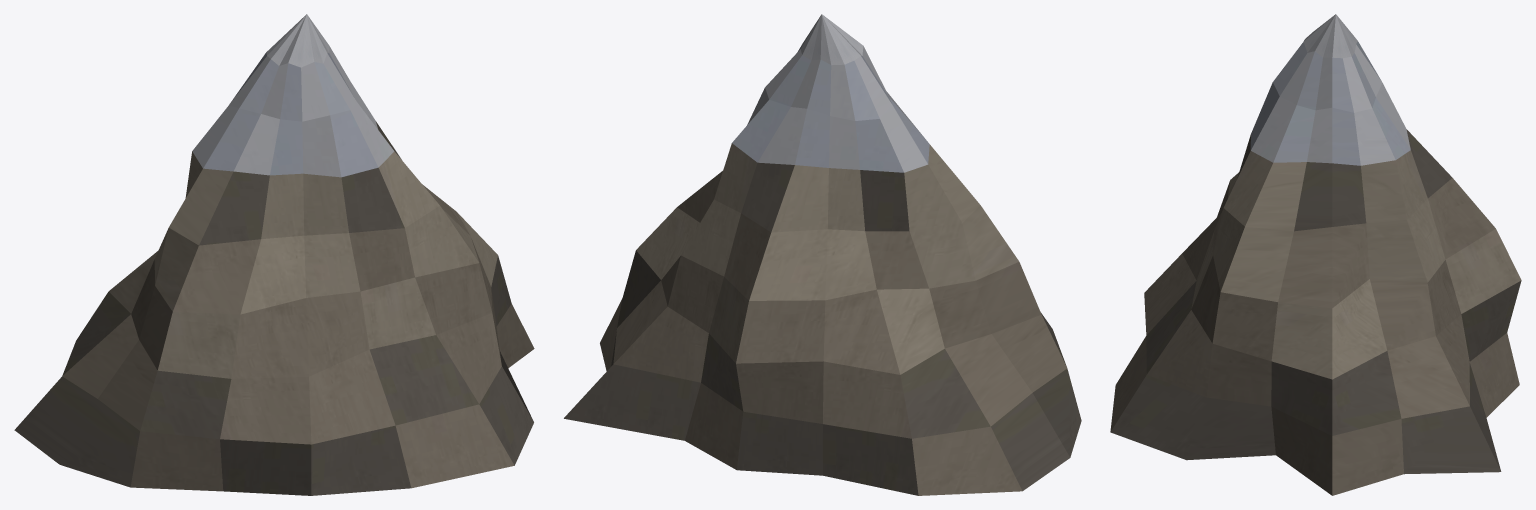
The model's file is mountain_01.glb.
3 renders of one model, left to right at view 1: azimuth 30°, elevation 25°; view 2: azimuth 150°, elevation 25°; view 3: azimuth 270°, elevation 25°, orthographic. The views are drawn at different scales.
Parts seen in each view (by area): view 1: mountain_01; view 2: mountain_01; view 3: mountain_01.
Part boxes in pixels (left/top/right/bottom): mountain_01: left=14, top=14, right=534, bottom=495; mountain_01: left=564, top=14, right=1081, bottom=495; mountain_01: left=1110, top=14, right=1521, bottom=495.
Size of the model in its own units: 15.1 by 11.8 by 11.71.
Materials: 5 (5 with a texture image).
